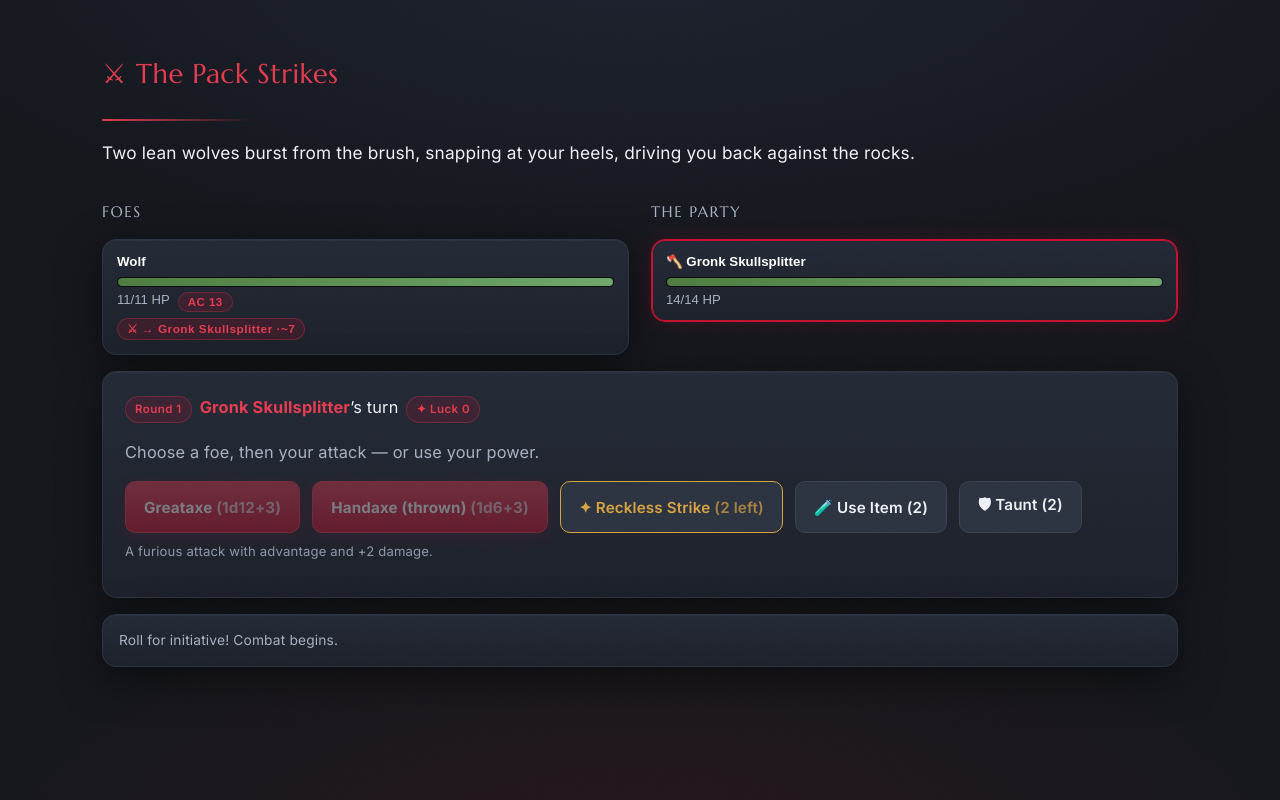
Test: CombatView › shows a Use Item button and item picker when the stash is stocked
Click the button "🧪 Use Item (2)". click: {"x": 871, "y": 507}
box: 795,481 -> 947,533
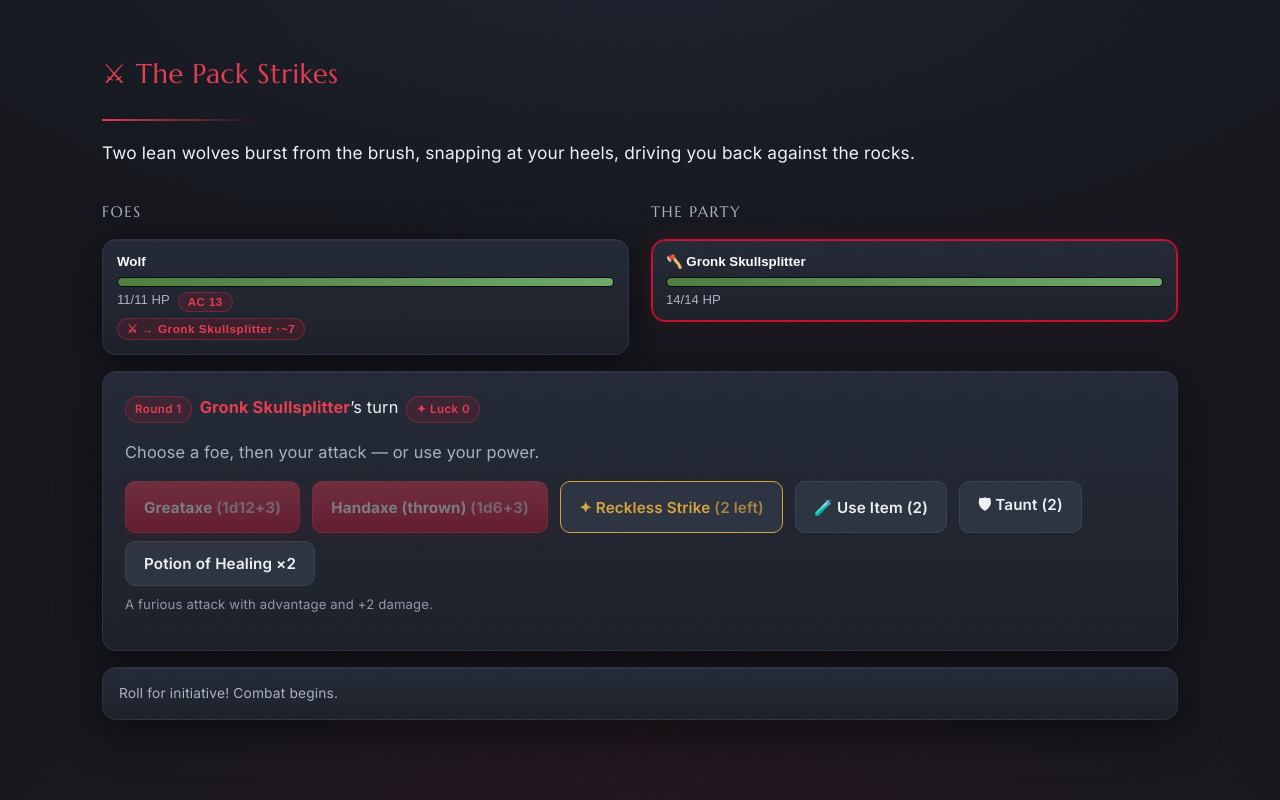
Result: the button "Potion of Healing ×2" is shown at 125,541 -> 315,586
